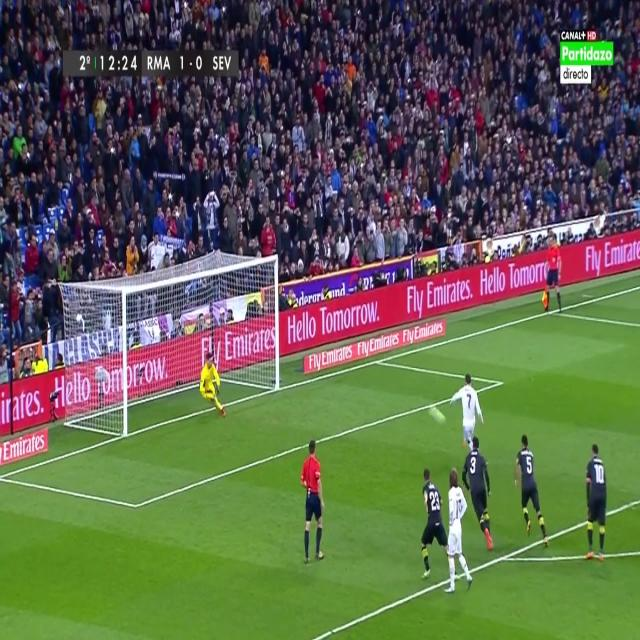Goalkeeper: (198, 352, 229, 419)
Player: (513, 431, 551, 551), (459, 433, 496, 553), (443, 465, 475, 595), (419, 466, 449, 583), (582, 442, 609, 565), (450, 373, 485, 441)
Referee: (300, 437, 325, 566), (541, 237, 564, 316)
